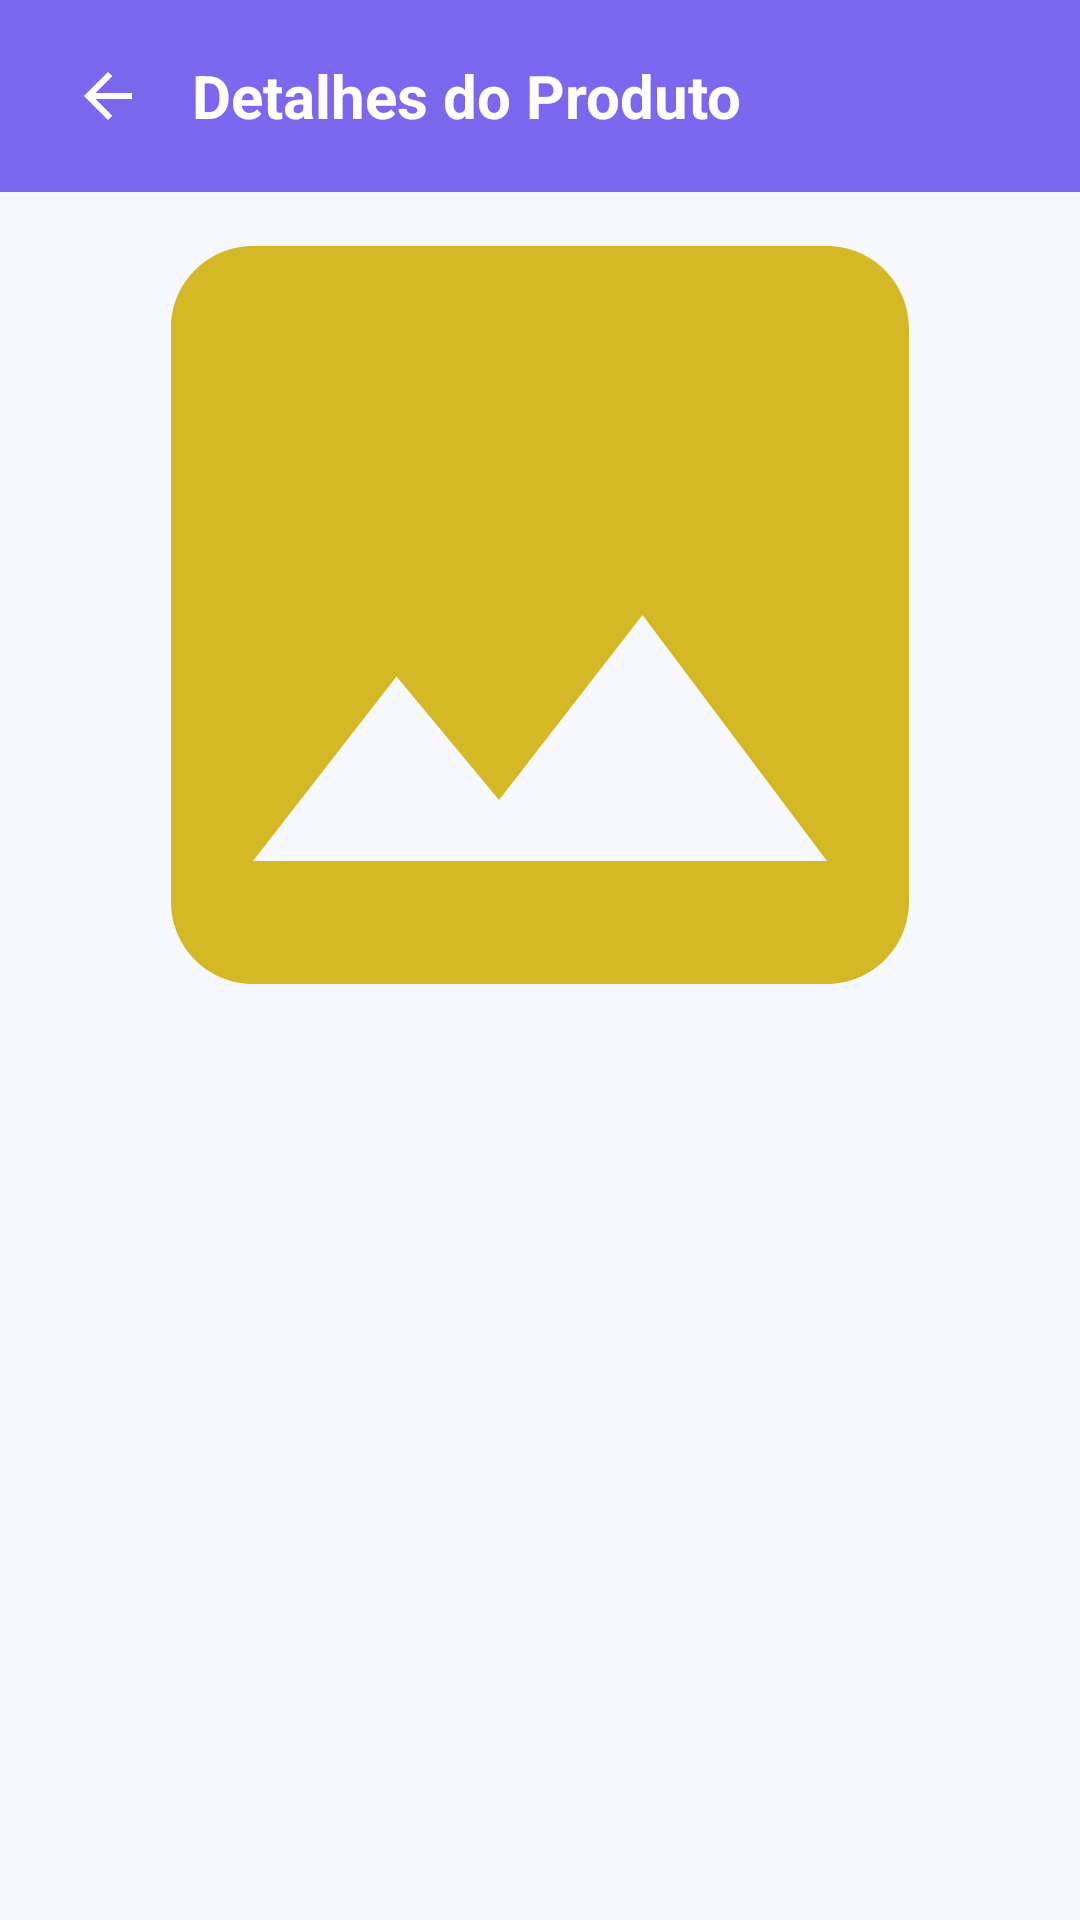

Named icons in this screenshot (1080*1920) and their centers, (x,y):
Voltar: (108,96)
